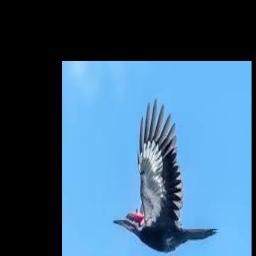Woodpecker: (112, 98, 218, 252)
